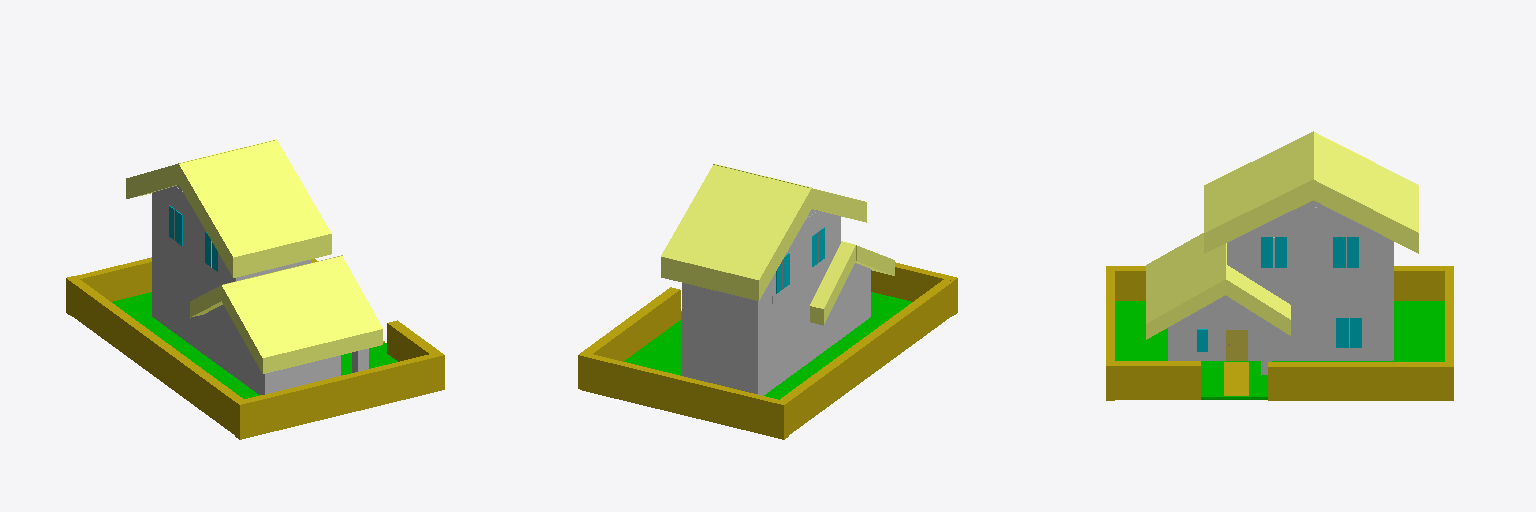
File: house_white.obj
The picture shows the model from 3 angles: view 1: azimuth 30°, elevation 25°; view 2: azimuth 150°, elevation 25°; view 3: azimuth 270°, elevation 25°; orthographic projection.
Parts seen in each view (by area): view 1: Cube.001; view 2: Cube.001; view 3: Cube.001.
Boxes of the visible parts, x1,y1,x2,y2 form: Cube.001: [66, 139, 444, 439]; Cube.001: [578, 164, 957, 439]; Cube.001: [1106, 131, 1453, 400].
Bounding box in the file's own units: 13.99 × 12.33 × 20.41.